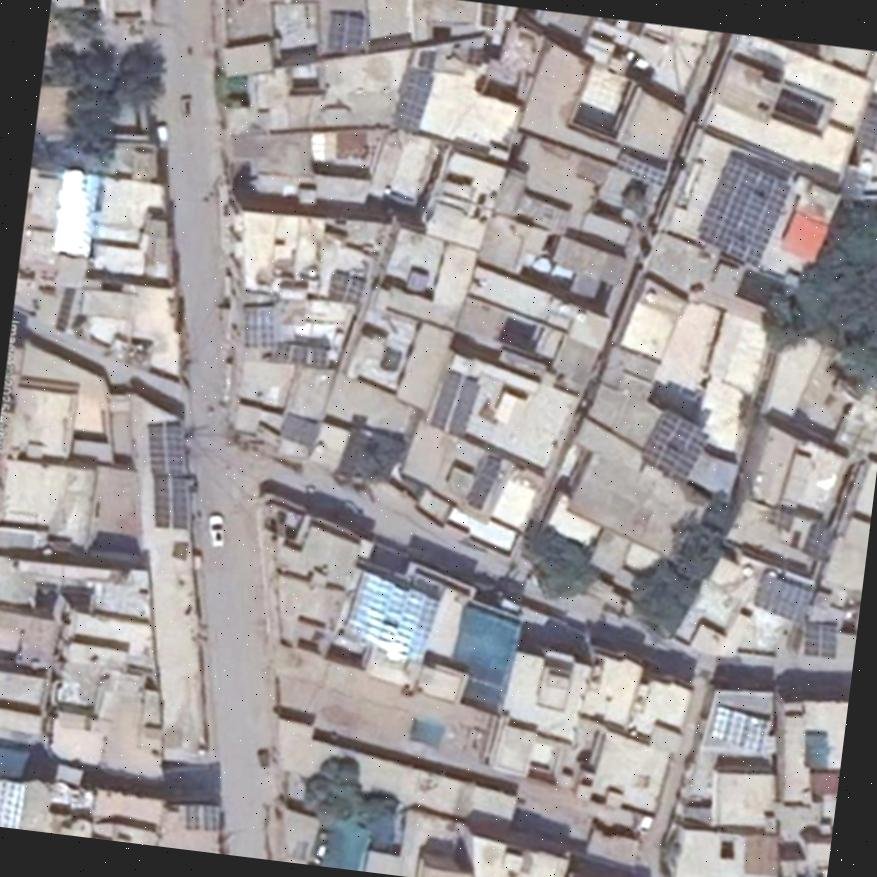Solarpanel: (695, 155, 790, 267), (343, 569, 439, 662), (640, 410, 709, 482), (51, 168, 100, 256), (150, 422, 187, 527), (432, 370, 478, 440), (392, 63, 434, 134), (753, 571, 811, 619), (710, 706, 769, 752), (466, 456, 500, 511), (618, 154, 668, 189), (328, 10, 364, 51), (327, 269, 364, 304), (804, 620, 838, 658), (243, 307, 274, 348), (0, 779, 26, 827), (859, 107, 877, 150), (186, 805, 216, 829)
